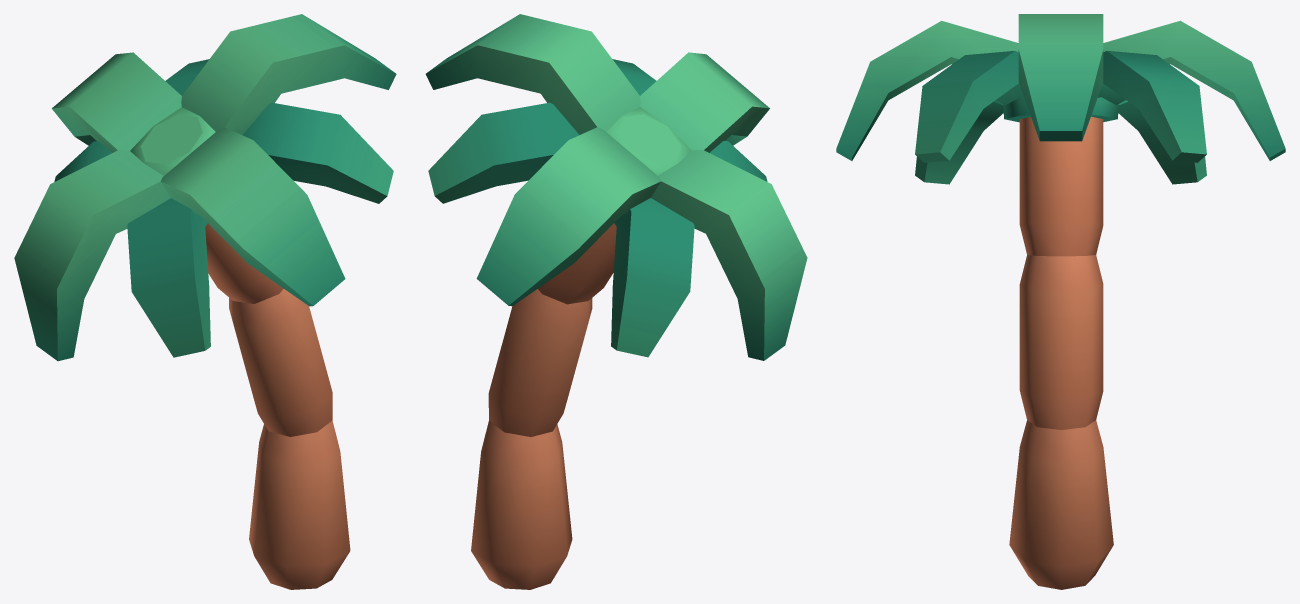
The model's file is kenney-pirate-kit-palm-detailed-bend.glb.
The picture shows the model from 3 angles, left to right: view 1: azimuth 30°, elevation 25°; view 2: azimuth 150°, elevation 25°; view 3: azimuth 270°, elevation 25°; orthographic projection.
Visible parts, largest first — view 1: palm-detailed-bend; view 2: palm-detailed-bend; view 3: palm-detailed-bend.
Part boxes in pixels (x1,y1,x2,y2): palm-detailed-bend: (14, 14, 396, 589); palm-detailed-bend: (425, 14, 807, 589); palm-detailed-bend: (836, 14, 1285, 589).
Size of the model in its own units: 3.39 by 5 by 3.78.
Materials: 1 (1 with a texture image).
